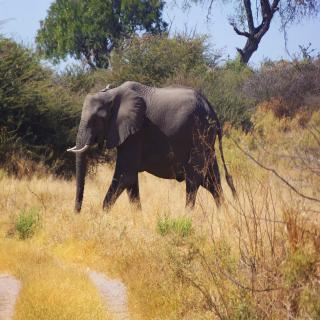Elephant: (65, 75, 242, 218)
